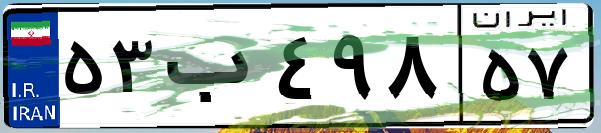3: (110, 28, 158, 98)
4: (270, 28, 330, 110)
5: (57, 26, 110, 100), (475, 38, 525, 113)
7: (525, 38, 570, 115)
8: (385, 28, 445, 110)
9: (330, 28, 385, 110)
ب: (158, 20, 270, 120)
